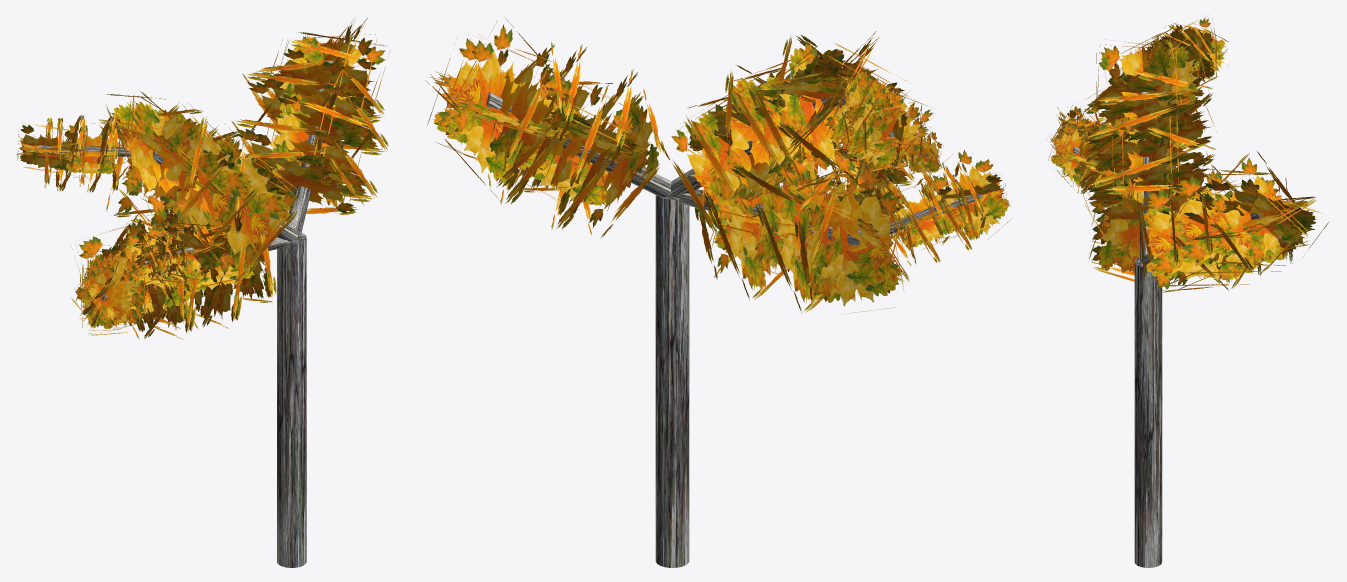
3 views of the same model, side by side, from view 1: azimuth 30°, elevation 25°; view 2: azimuth 150°, elevation 25°; view 3: azimuth 270°, elevation 25° (orthographic). The views are drawn at different scales.
Parts seen in each view (by area): view 1: leaf (1), treeStart leaves, leaf (3), leaf (5), leaf (4), leaf, leaf (2), leaf (6), leaf (13), leaf (14), leaf (10), leaf (11) (+6 smaller); view 2: treeStart leaves, leaf (6), leaf (5), leaf (1), leaf (3), leaf (4), leaf (14), leaf (2), leaf, leaf (9), leaf (13), leaf (8) (+5 smaller); view 3: treeStart leaves, leaf (3), leaf (1), leaf (5), leaf, leaf (4), leaf (6), leaf (2), leaf (14), leaf (13), leaf (9), leaf (10) (+5 smaller).
Boxes of the visible parts, x1=… form: leaf (1): x1=87, y1=115, x2=377, y2=328; treeStart leaves: x1=277, y1=233, x2=306, y2=567; leaf (3): x1=57, y1=72, x2=388, y2=339; leaf (5): x1=44, y1=39, x2=379, y2=339; leaf (4): x1=55, y1=59, x2=384, y2=328; leaf: x1=89, y1=118, x2=363, y2=309; leaf (2): x1=79, y1=92, x2=373, y2=329; leaf (6): x1=16, y1=34, x2=376, y2=335; leaf (13): x1=17, y1=32, x2=386, y2=330; leaf (14): x1=19, y1=18, x2=367, y2=319; leaf (10): x1=18, y1=32, x2=385, y2=329; leaf (11): x1=66, y1=86, x2=354, y2=299; treeStart leaves: x1=655, y1=195, x2=689, y2=567; leaf (6): x1=444, y1=17, x2=1012, y2=314; leaf (5): x1=457, y1=35, x2=985, y2=300; leaf (1): x1=551, y1=66, x2=940, y2=299; leaf (3): x1=500, y1=44, x2=971, y2=312; leaf (4): x1=487, y1=42, x2=976, y2=302; leaf (14): x1=427, y1=36, x2=1009, y2=290; leaf (2): x1=514, y1=65, x2=949, y2=274; leaf: x1=583, y1=73, x2=916, y2=279; leaf (9): x1=439, y1=34, x2=1003, y2=289; leaf (13): x1=425, y1=31, x2=1006, y2=282; leaf (8): x1=524, y1=76, x2=955, y2=268; treeStart leaves: x1=1134, y1=257, x2=1162, y2=567; leaf (3): x1=1059, y1=27, x2=1292, y2=273; leaf (1): x1=1059, y1=37, x2=1261, y2=286; leaf (5): x1=1053, y1=23, x2=1296, y2=273; leaf: x1=1057, y1=45, x2=1227, y2=292; leaf (4): x1=1062, y1=26, x2=1287, y2=265; leaf (6): x1=1055, y1=24, x2=1329, y2=257; leaf (2): x1=1055, y1=33, x2=1246, y2=290; leaf (14): x1=1048, y1=24, x2=1309, y2=250; leaf (13): x1=1046, y1=16, x2=1315, y2=239; leaf (9): x1=1053, y1=41, x2=1309, y2=254; leaf (10): x1=1051, y1=15, x2=1314, y2=239.
Bounding box in the file's own units: 8.11 × 9.32 × 5.2.
